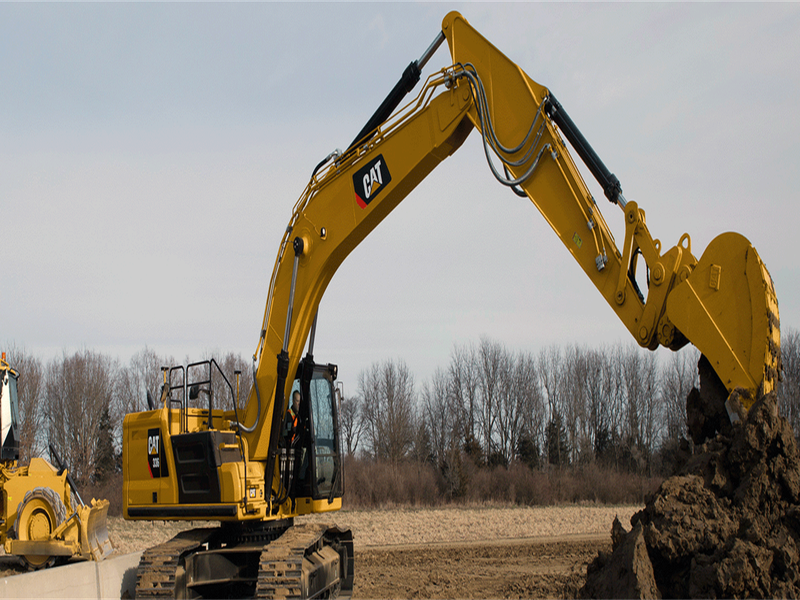shovel: (112, 9, 787, 600)
